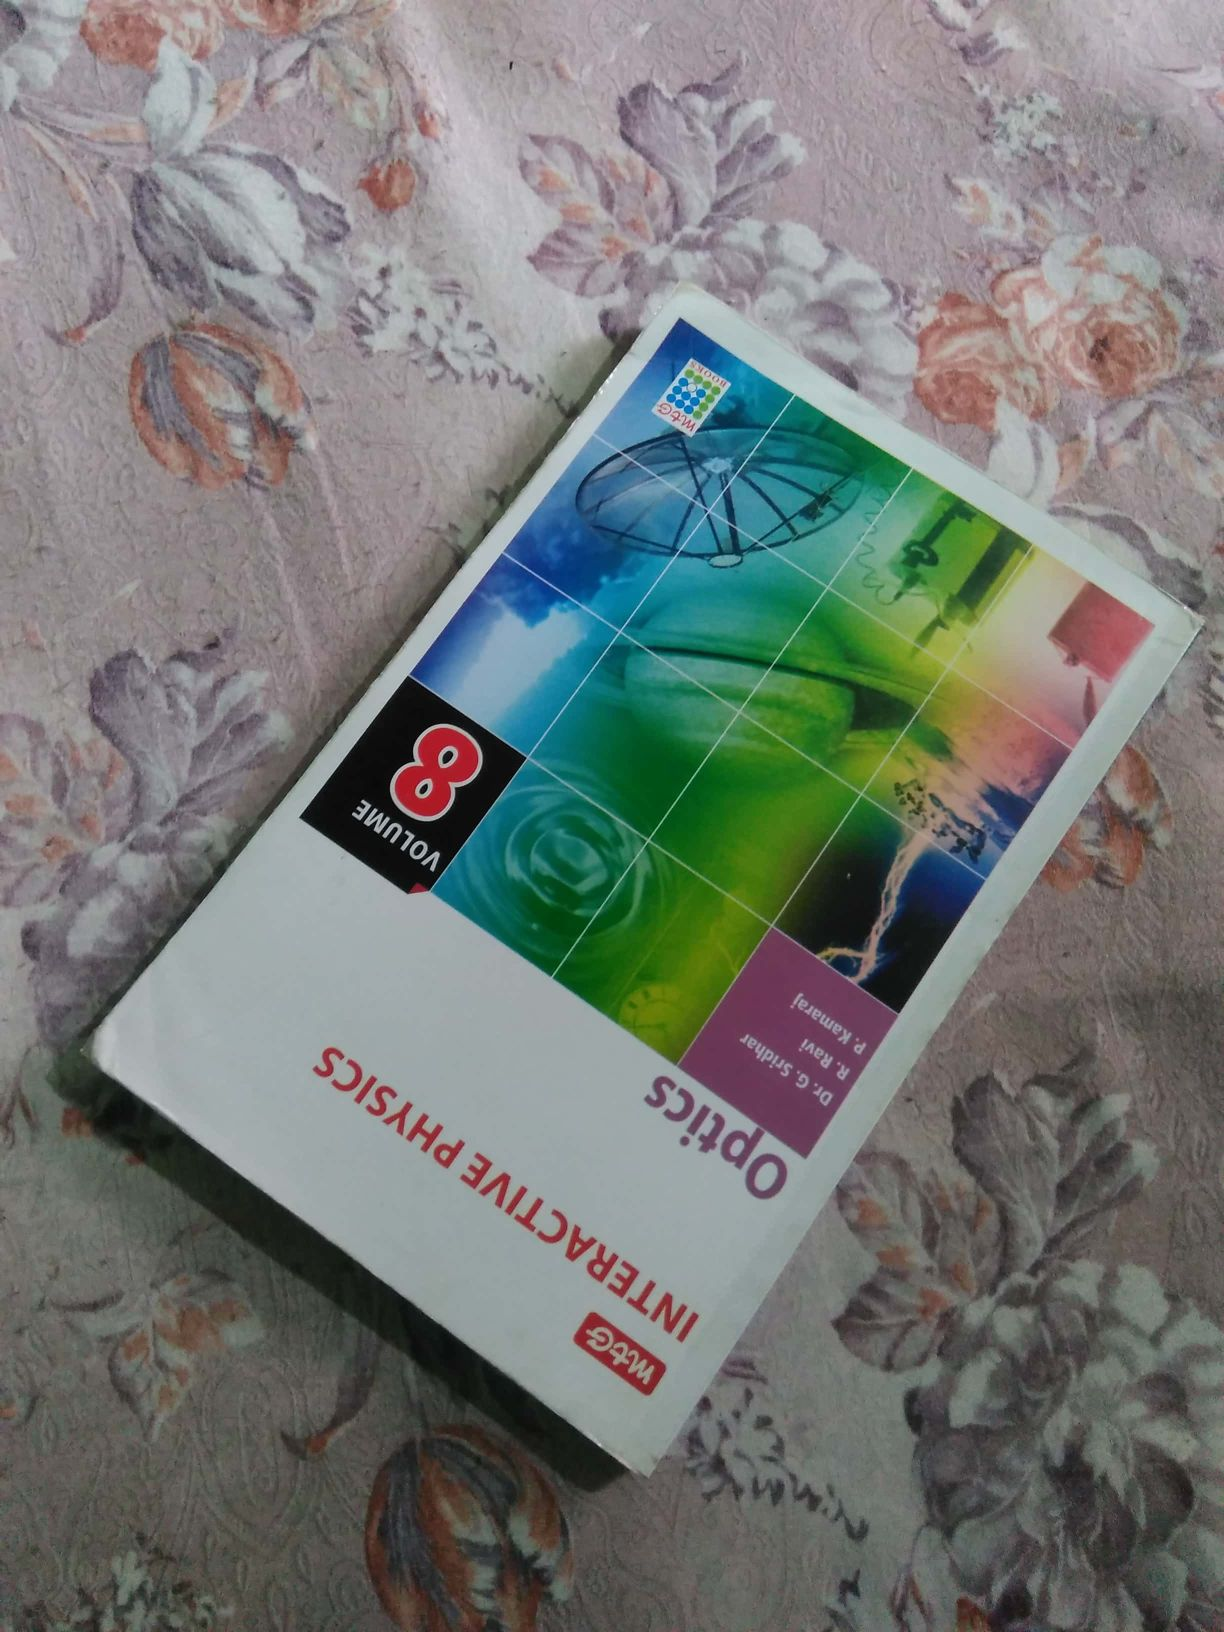optics: (186, 242, 1088, 1405)
